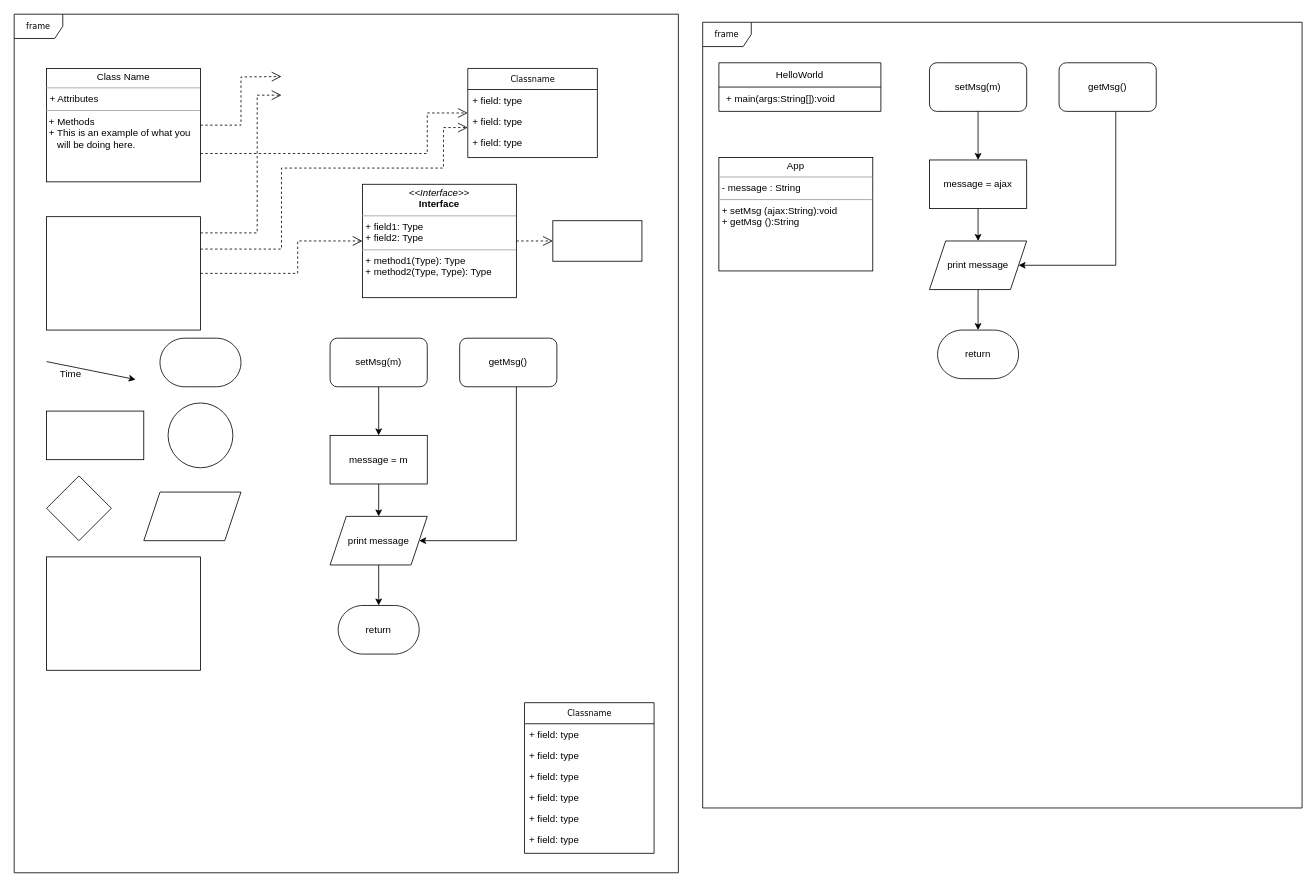
Some shapes in this 1316 by 887 pixel diagram are drawn without their labels. The shapes that lost their labels are listed below. From the top down, each one's centre as x and y in pixels, then its label:
At (597,240): "«interface» Name".
At (123,273): "App - message : String + setMsg (w:String):void + getMsg ():String".
At (200,362): "Terminal".
At (95,435): "Process".
At (200,435): "Connector".
At (78,508): "Decision".
At (192,516): "Input/Output".
At (123,613): "Lab1App - myHW: HWApp + main()".
